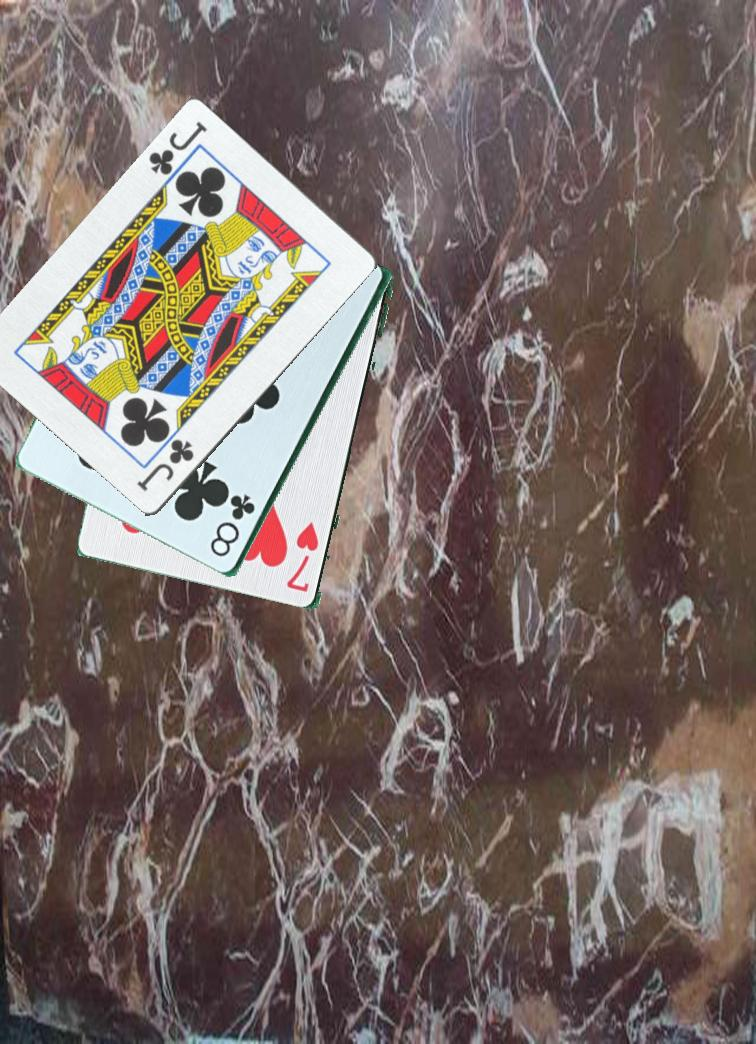7h: (284, 518, 322, 602)
8c: (207, 491, 259, 561)
jc: (145, 118, 210, 179), (134, 436, 197, 496)
